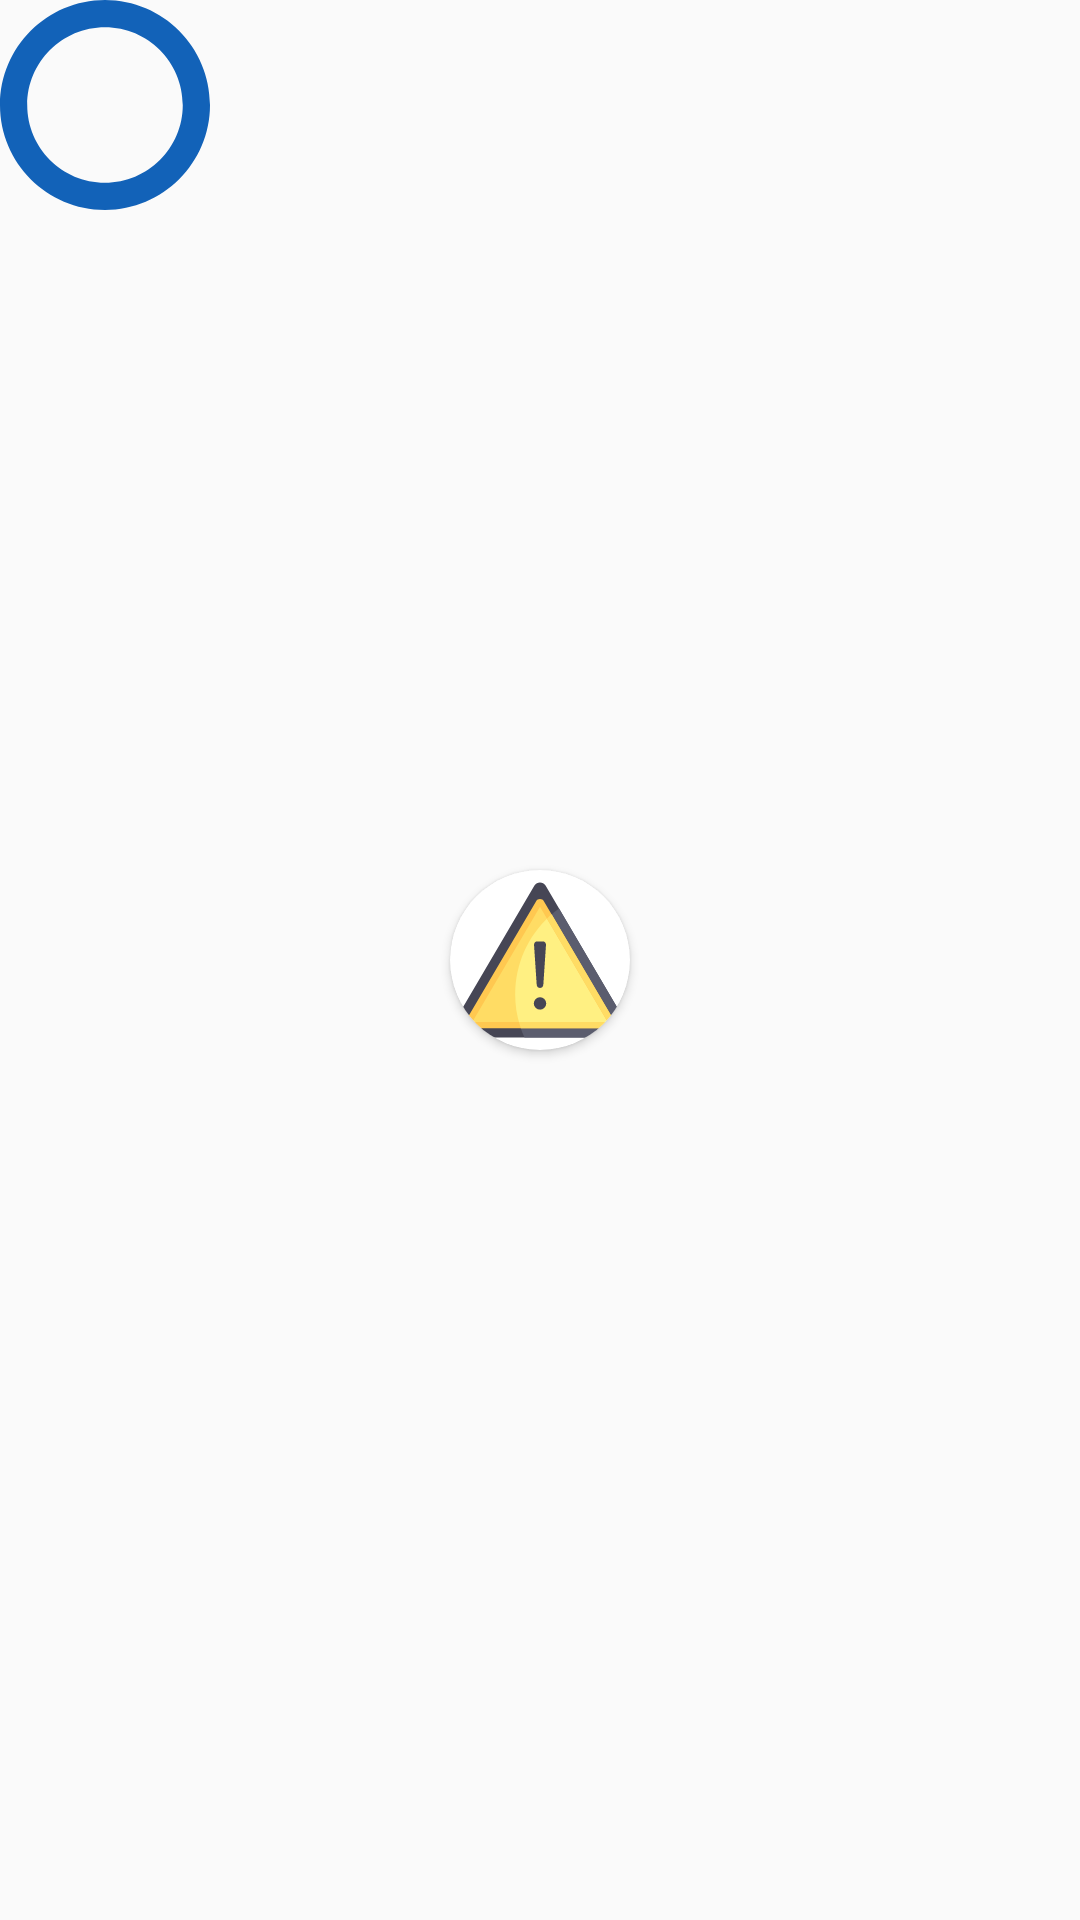

Icon bounding boxes for this 1080*1920 phone screenshot, format {"x1": x1, "y1": y1, "x2": x2, "y2": y2}:
error: {"x1": 450, "y1": 882, "x2": 630, "y2": 1050}
